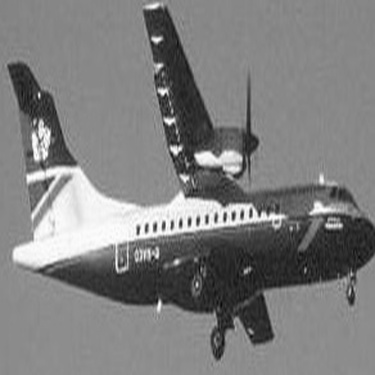airplane: (4, 4, 374, 373)
